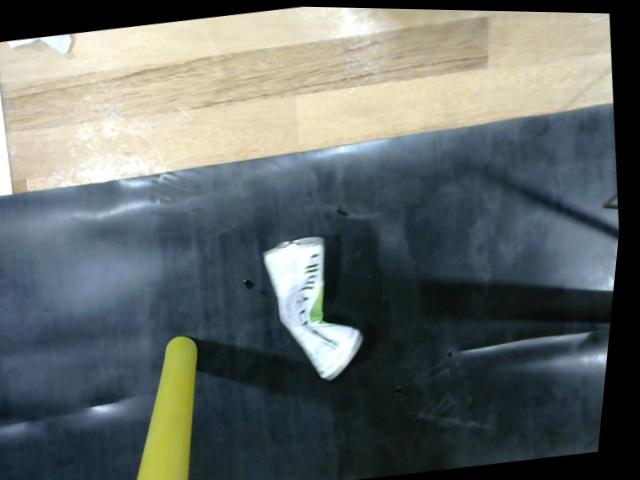can: (270, 230, 374, 382)
